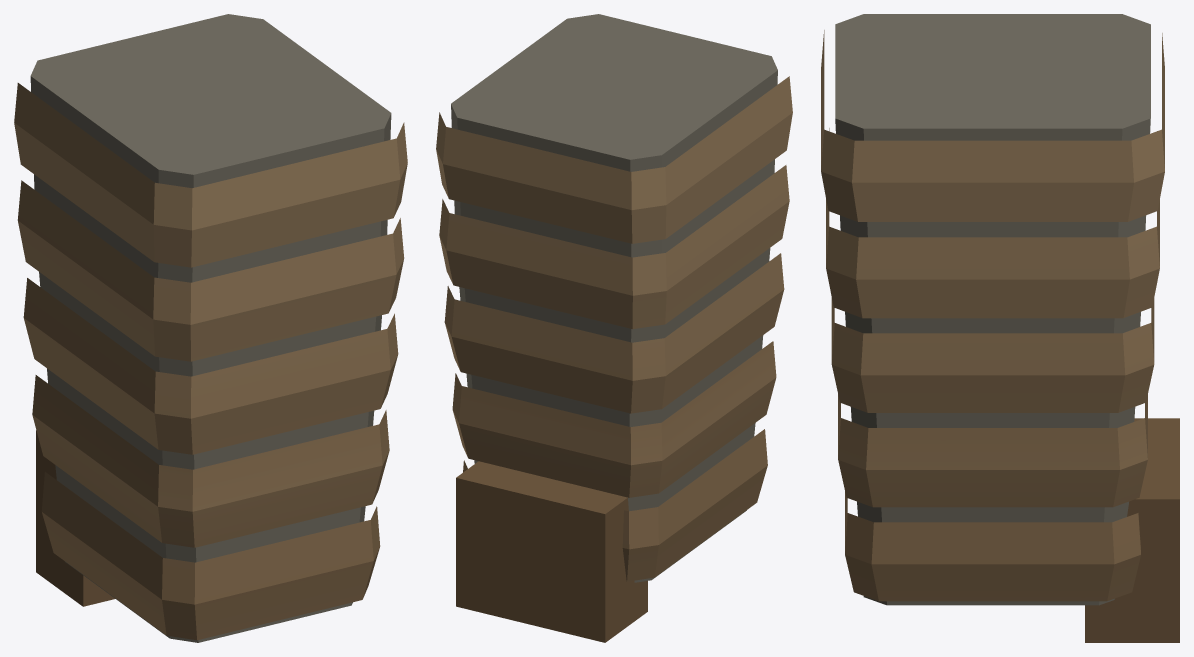
3 views of the same model, side by side, from view 1: azimuth 30°, elevation 25°; view 2: azimuth 150°, elevation 25°; view 3: azimuth 270°, elevation 25° (orthographic). The views are drawn at different scales.
Parts seen in each view (by area): view 1: lamellar_greaves; view 2: lamellar_greaves; view 3: lamellar_greaves.
Boxes of the visible parts, x1,y1,x2,y2 form: lamellar_greaves: (14,14,407,642); lamellar_greaves: (436,14,792,642); lamellar_greaves: (821,14,1179,642).
Bounding box in the file's own units: 0.1872 × 0.37 × 0.2267.
